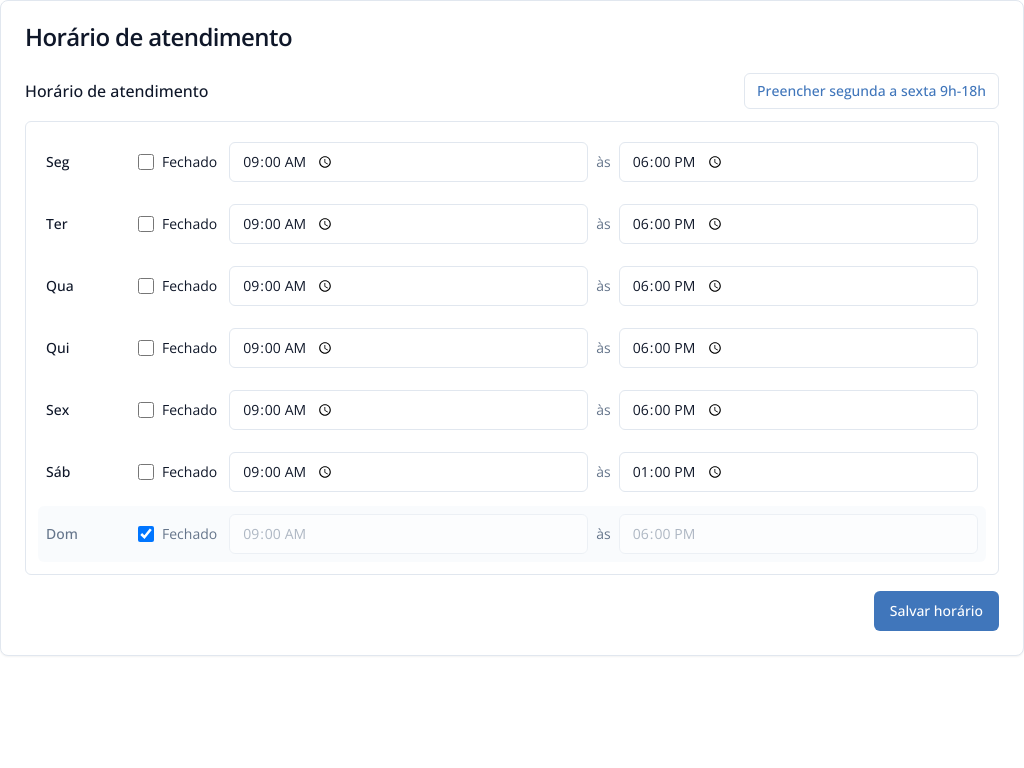
it: WorkingHoursClient › salvar com falha (502): mostra erro e NÃO confirmação
What coordinates should you click on to do the following:
click the button "Salvar horário"
I would click on:
 (936, 611)
Its box is [874,591,999,631].
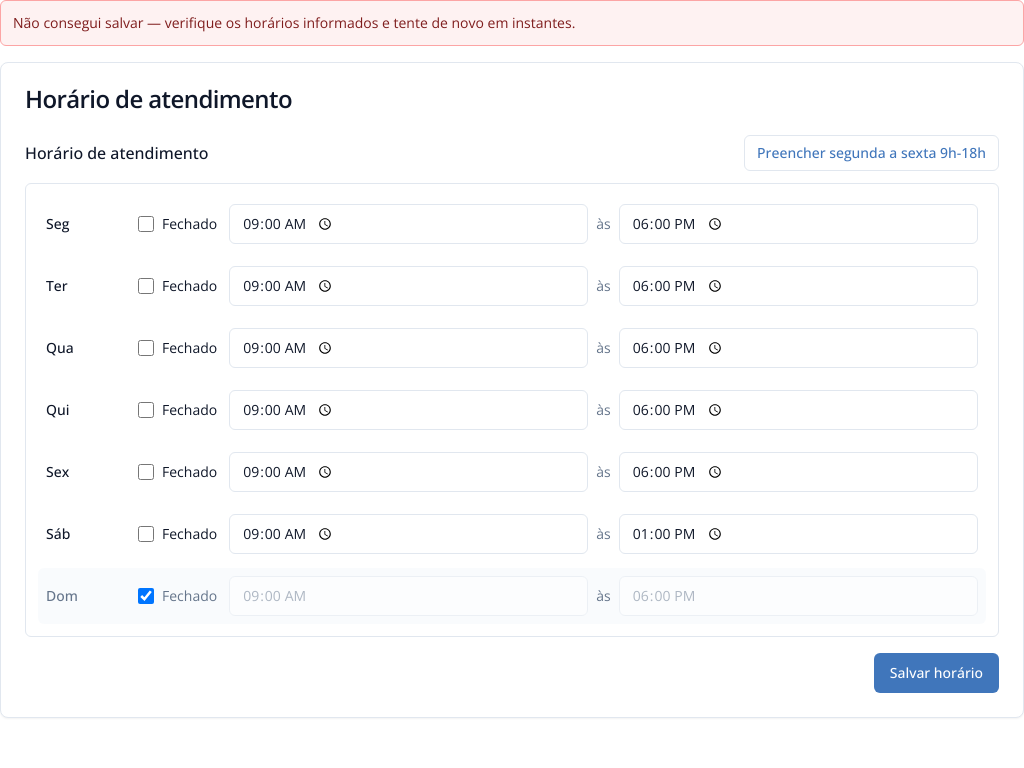
Expected: the text "Não consegui salvar" is shown, [13,13,575,32]
